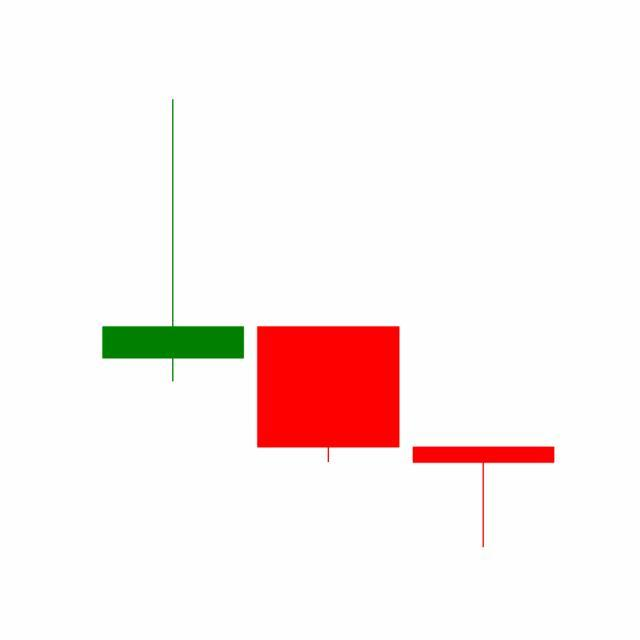Hammer: (406, 445, 562, 550)
